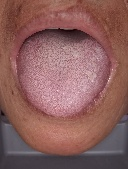tongue: (15, 47, 110, 118)
